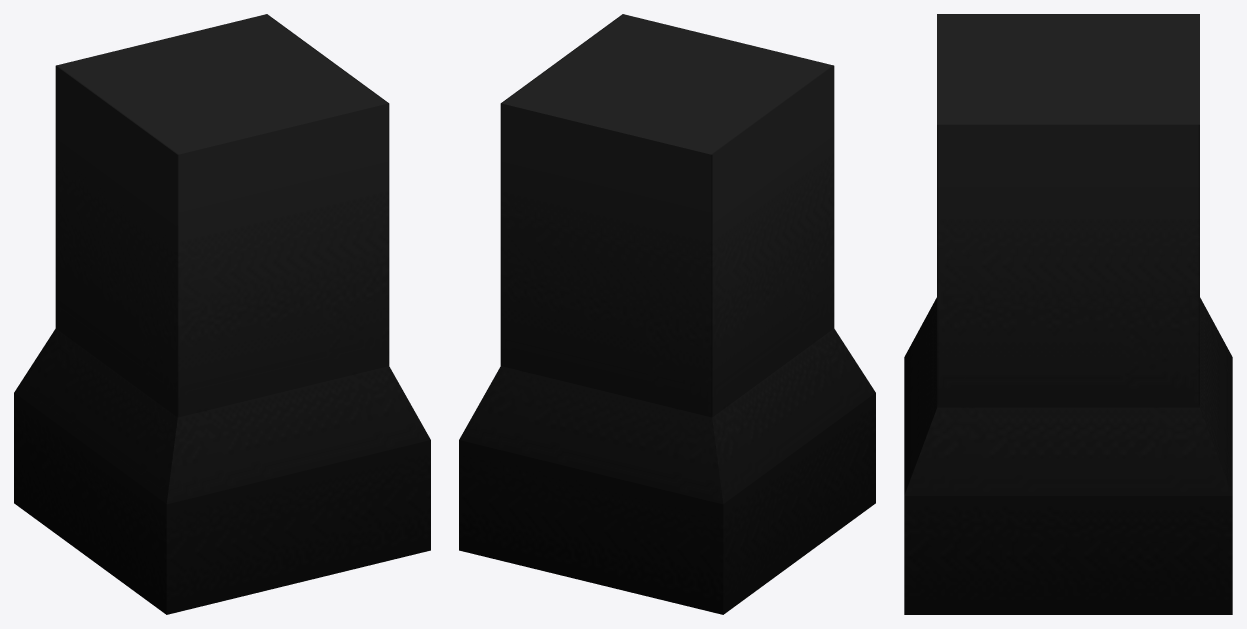
3 renders of one model, left to right at view 1: azimuth 30°, elevation 25°; view 2: azimuth 150°, elevation 25°; view 3: azimuth 270°, elevation 25°, orthographic. The views are drawn at different scales.
Parts seen in each view (by area): view 1: cuboid; view 2: cuboid; view 3: cuboid.
Boxes of the visible parts, <box> form: cuboid: <box>14,14,430,614</box>; cuboid: <box>459,14,875,614</box>; cuboid: <box>904,14,1232,614</box>.
Bounding box in the file's own units: 1.25 × 2 × 1.25.
Materials: 1 (1 with a texture image).
